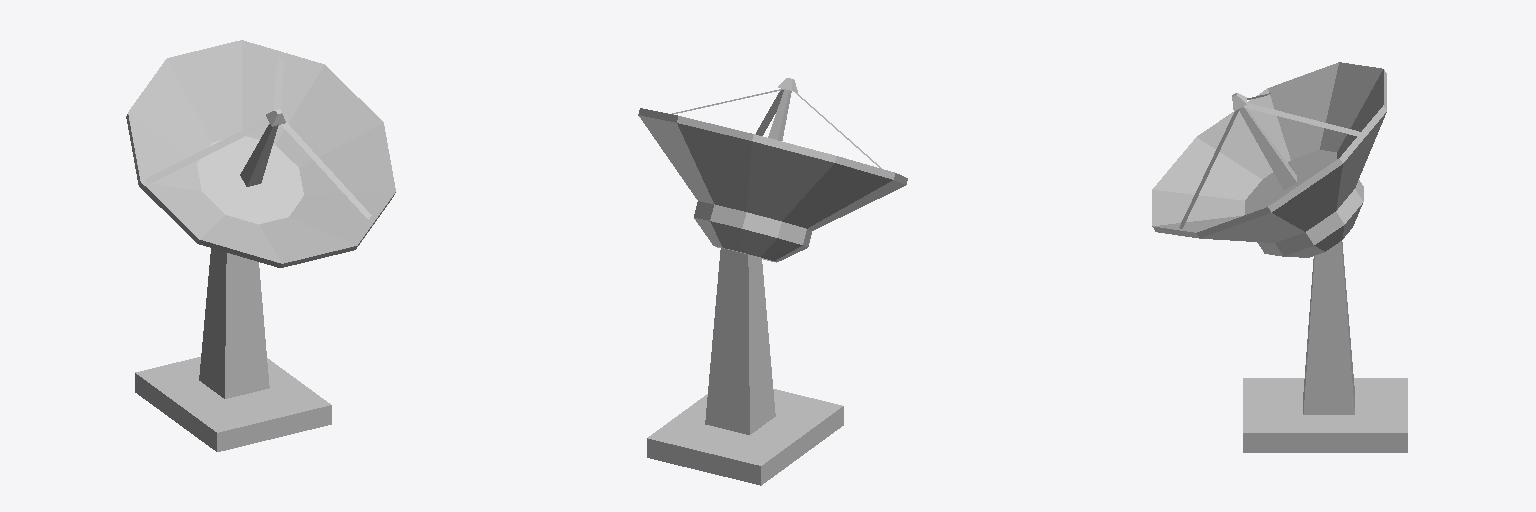
File: 室外天线.obj
The picture shows the model from 3 angles: view 1: azimuth 30°, elevation 25°; view 2: azimuth 150°, elevation 25°; view 3: azimuth 270°, elevation 25°; orthographic projection.
Visible parts, largest first — view 1: satellite004, Box1822, Box1820, Box1821, Object019, Object017; view 2: satellite004, Box1822, Box1820, Box1821; view 3: satellite004, Box1822, Box1820, Box1821, Object018.
Boxes of the visible parts, x1,y1,x2,y2 form: satellite004: [126, 40, 395, 267]; Box1822: [135, 357, 331, 451]; Box1820: [199, 248, 269, 398]; Box1821: [240, 124, 278, 186]; Object019: [145, 118, 269, 184]; Object017: [281, 122, 371, 219]; satellite004: [638, 108, 907, 262]; Box1822: [647, 389, 843, 485]; Box1820: [705, 248, 775, 434]; Box1821: [768, 89, 791, 140]; satellite004: [1152, 62, 1386, 257]; Box1822: [1243, 378, 1407, 452]; Box1820: [1303, 241, 1354, 414]; Box1821: [1239, 107, 1296, 189]; Object018: [1244, 103, 1360, 135].
Bounding box in the file's own units: 155 × 205 × 141.